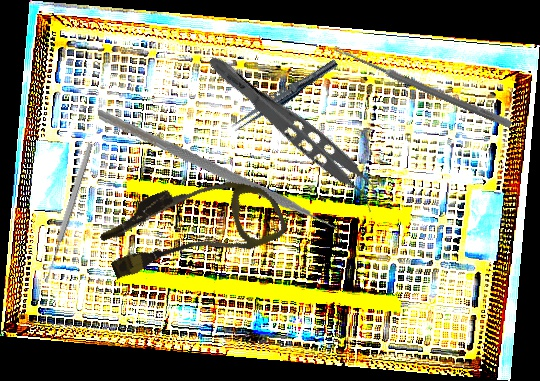Cannula: (93, 153, 290, 300)
Chopper: (97, 86, 343, 276)
Surgical Spoon: (331, 44, 514, 129), (41, 142, 95, 284)
Tissue Forceps: (195, 51, 391, 215), (228, 54, 341, 137)
